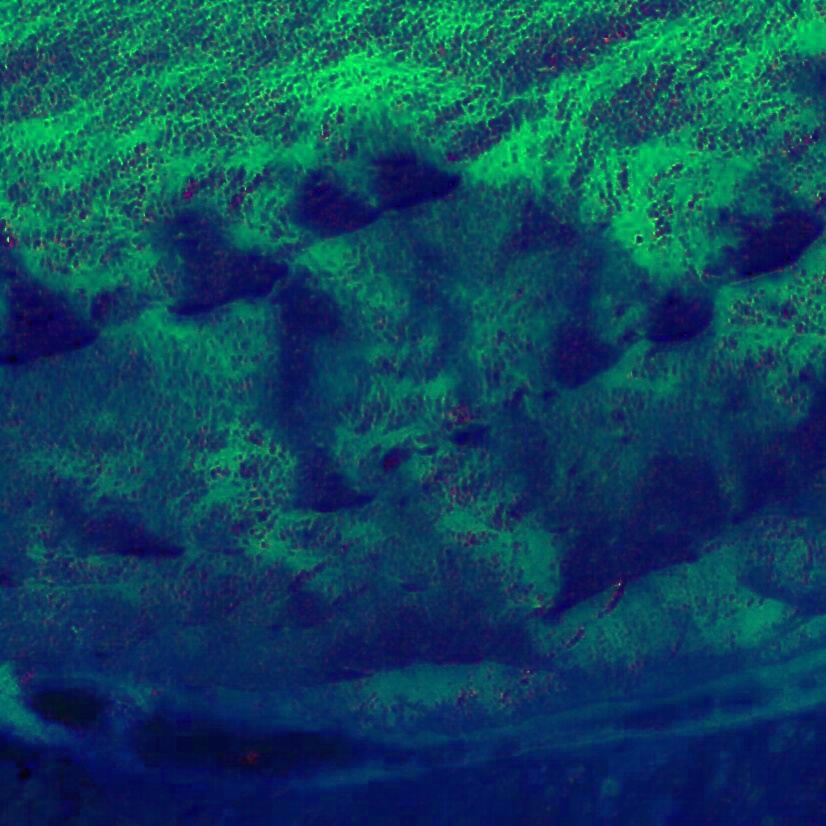rip_current: (265, 199, 681, 658)
